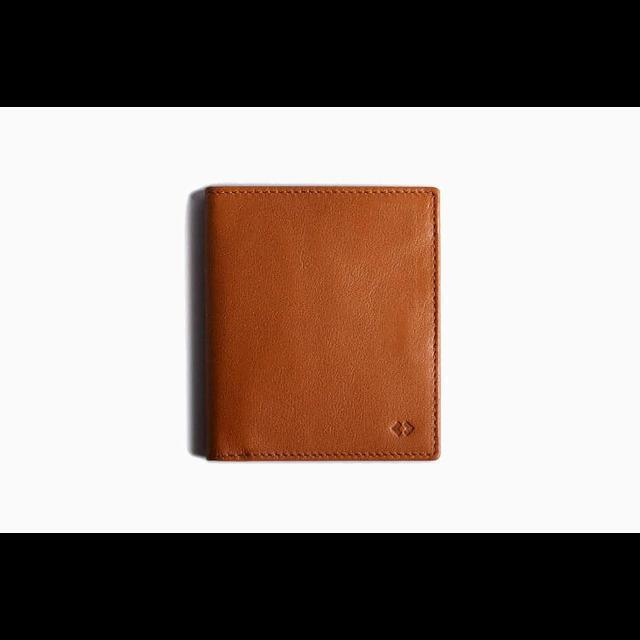wallet: (190, 177, 444, 463)
